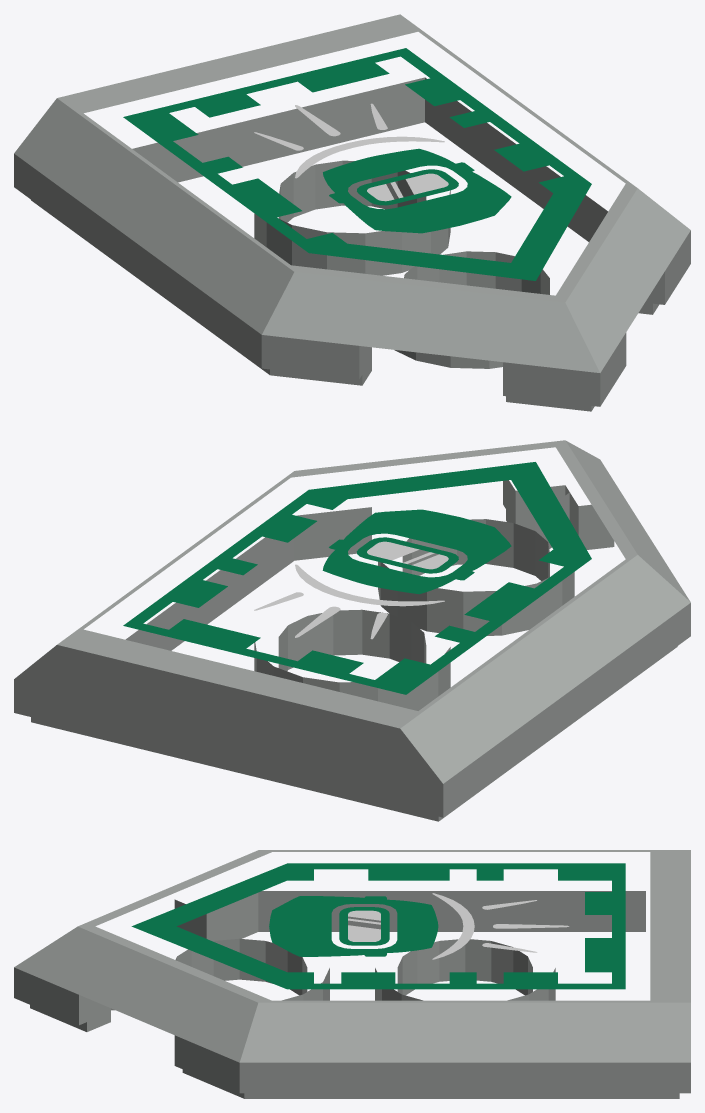
3 views of the same model, one above another, from view 1: azimuth 30°, elevation 25°; view 2: azimuth 150°, elevation 25°; view 3: azimuth 270°, elevation 25° (orthographic). The views are drawn at different scales.
Parts seen in each view (by area): view 1: world; view 2: world; view 3: world.
Boxes of the visible parts, bbox=[...] form: world: bbox=[14, 14, 690, 411]; world: bbox=[14, 440, 690, 821]; world: bbox=[14, 850, 690, 1098].
Size of the model in its own units: 0.016 by 0.0032 by 0.024.
